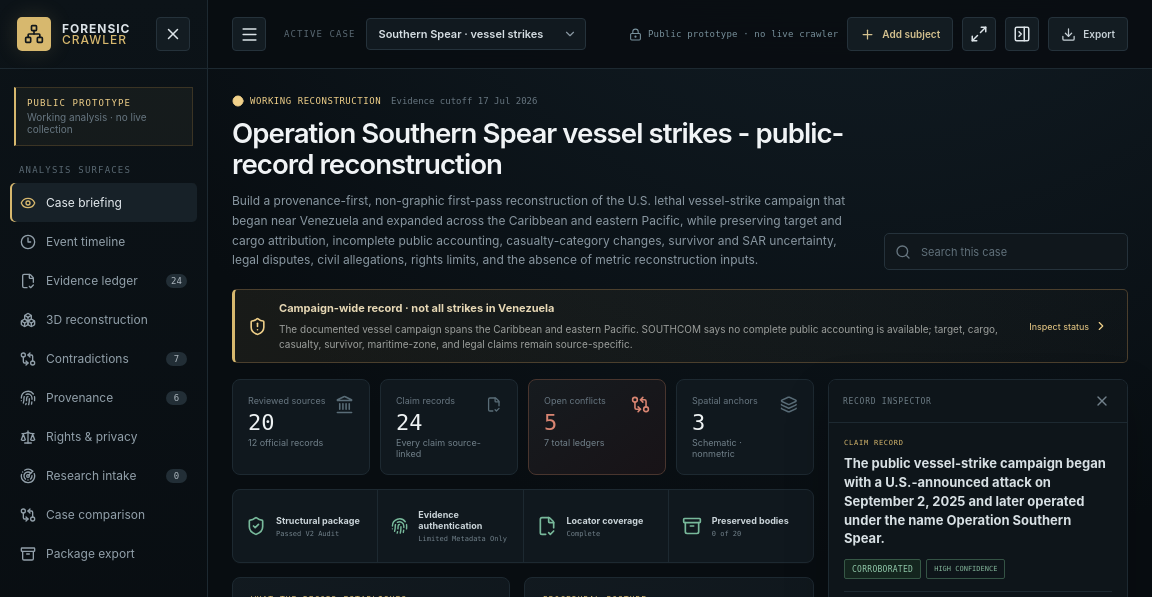
local review interface › keeps the Renee Good fixture available as a separate case
Select "Renee Good · Minneapolis" in the dropdown named "Select investigation" at (476, 34), box [366,18,586,50]
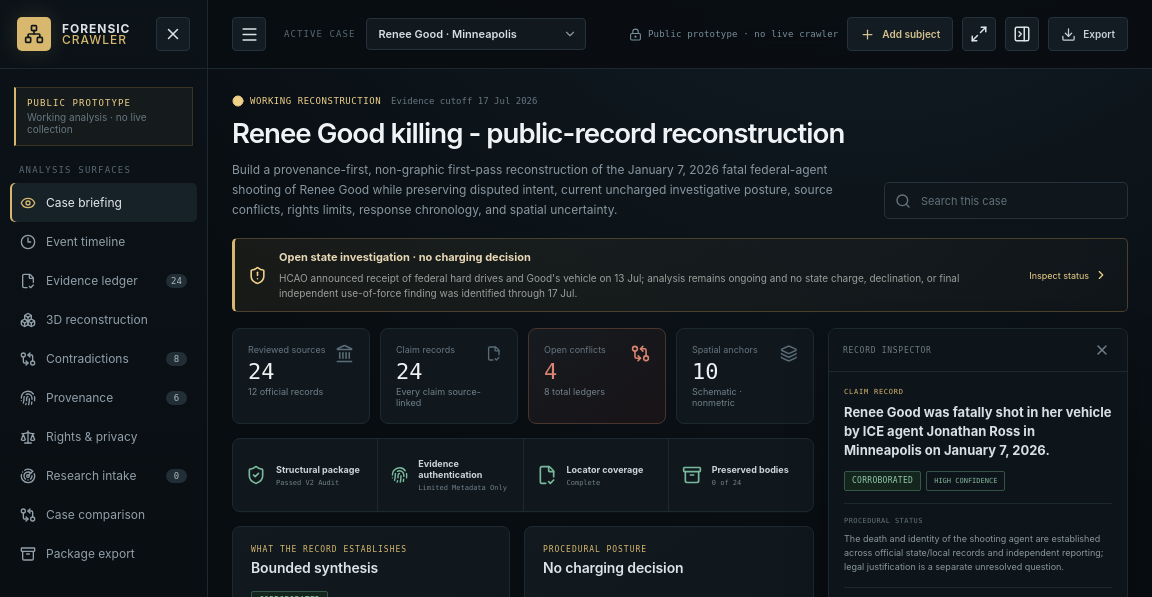
Now the heading "Renee Good killing - public-record reconstruction" is shown, box [232,118,858,149]
Now the text "Open state investigation · no charging decision" is shown, box [279,250,531,264]
